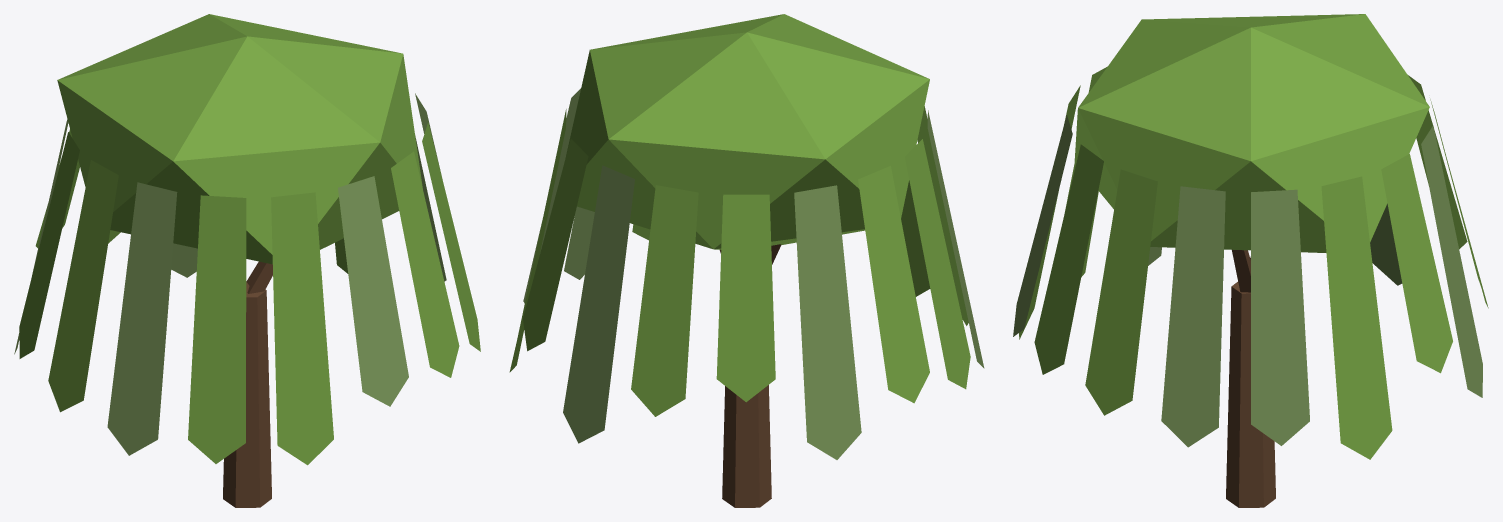
The model's file is saule.glb.
3 views of the same model, side by side, from view 1: azimuth 30°, elevation 25°; view 2: azimuth 150°, elevation 25°; view 3: azimuth 270°, elevation 25° (orthographic).
Parts seen in each view (by area): view 1: saule; view 2: saule; view 3: saule.
Part boxes in pixels (x1,y1,x2,y2): saule: (14, 14, 480, 507); saule: (509, 14, 984, 507); saule: (1013, 14, 1488, 507).
Size of the model in its own units: 8.53 by 9.32 by 8.53.
1 material, 1 textured.
